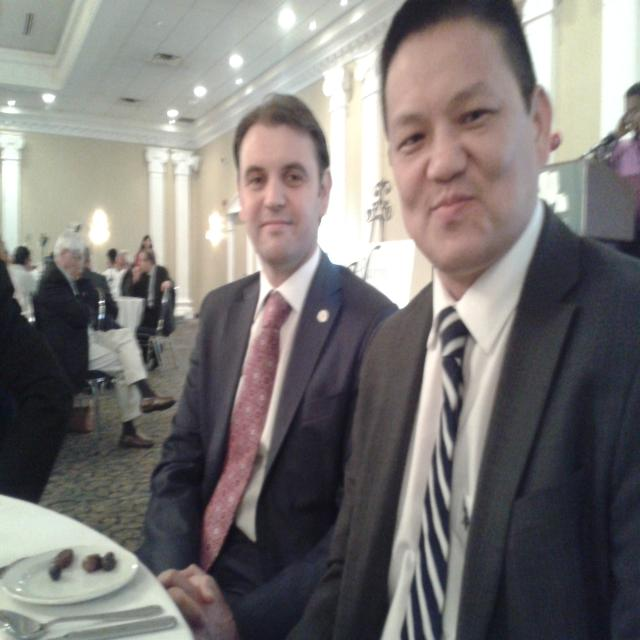body: (288, 0, 640, 640), (133, 89, 402, 640), (33, 230, 177, 451), (128, 246, 175, 372), (590, 76, 640, 192), (97, 232, 152, 296), (5, 245, 47, 326), (76, 245, 118, 322)
